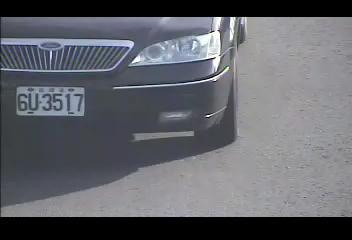plate: (14, 84, 86, 118)
